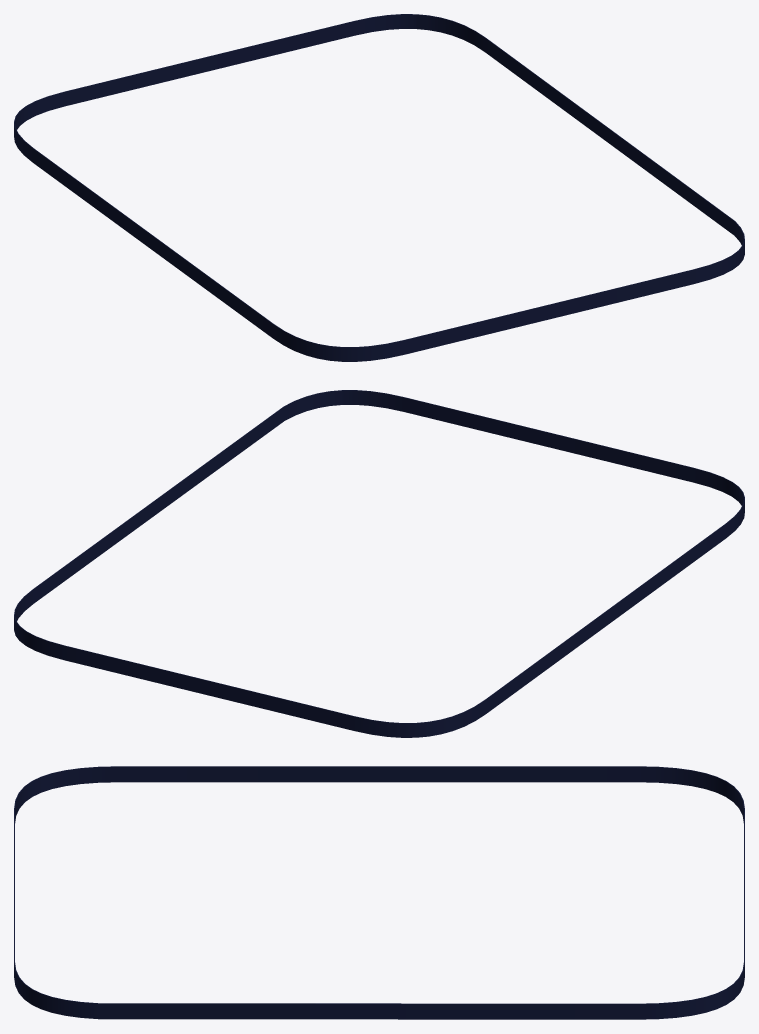
File: SciFi_CR_Ceiling_Glass.FBX
The picture shows the model from 3 angles, top to bottom: view 1: azimuth 30°, elevation 25°; view 2: azimuth 150°, elevation 25°; view 3: azimuth 270°, elevation 25°; orthographic projection. The views are drawn at different scales.
Parts seen in each view (by area): view 1: SciFi_CR_Ceiling_Glass; view 2: SciFi_CR_Ceiling_Glass; view 3: SciFi_CR_Ceiling_Glass.
Boxes of the visible parts, bbox=[...] form: SciFi_CR_Ceiling_Glass: bbox=[14, 14, 744, 361]; SciFi_CR_Ceiling_Glass: bbox=[14, 390, 744, 737]; SciFi_CR_Ceiling_Glass: bbox=[14, 766, 744, 1019].
Size of the model in its own units: 6938 by 212 by 9013.
